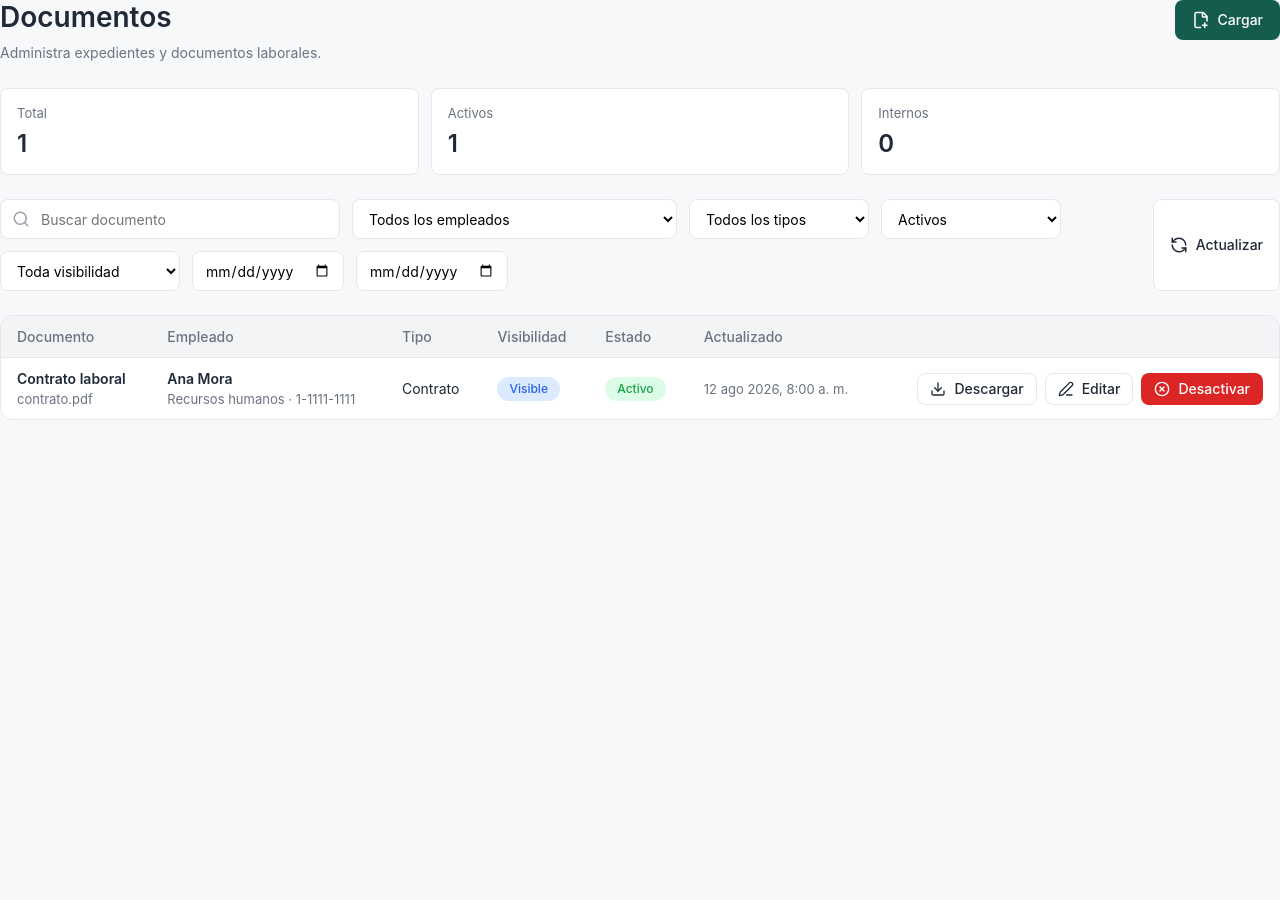
it: DocumentsPage › loads documents and opens the upload form for administrators
Expected: the text "Contrato laboral" is shown, [17,370,135,387]
Expected: the text "Administra expedientes y documentos laborales." is shown, [0,42,321,64]
Click the button "Cargar" at (1227, 20), box [1175,0,1279,40]
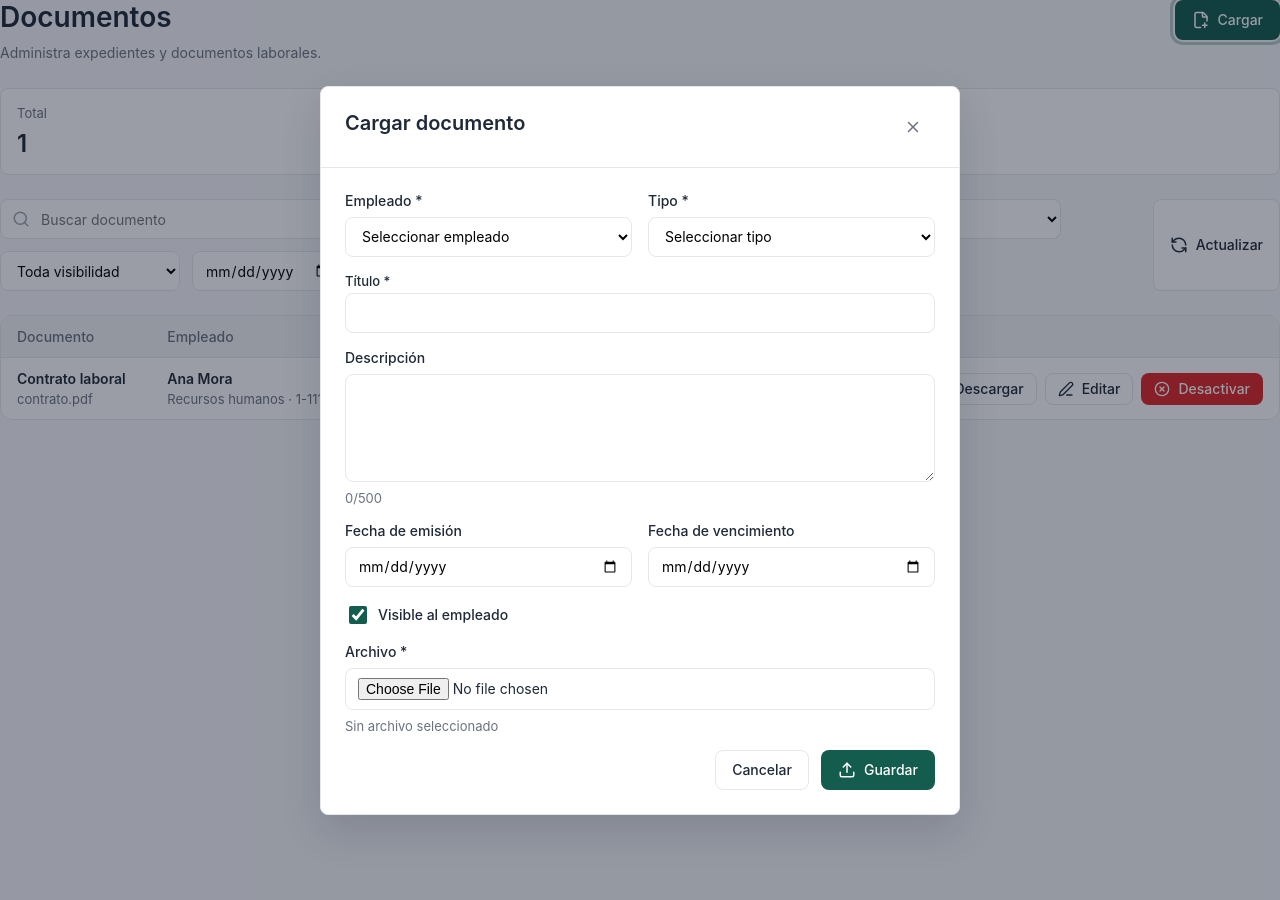
Result: the dialog "Cargar documento" is shown at [320,86,960,814]
